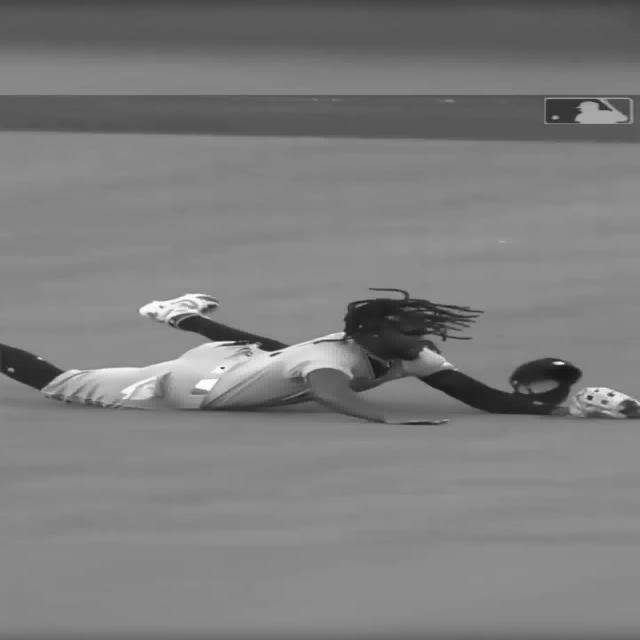baseball_glove: (569, 386, 640, 417)
shoe: (135, 292, 228, 324)
